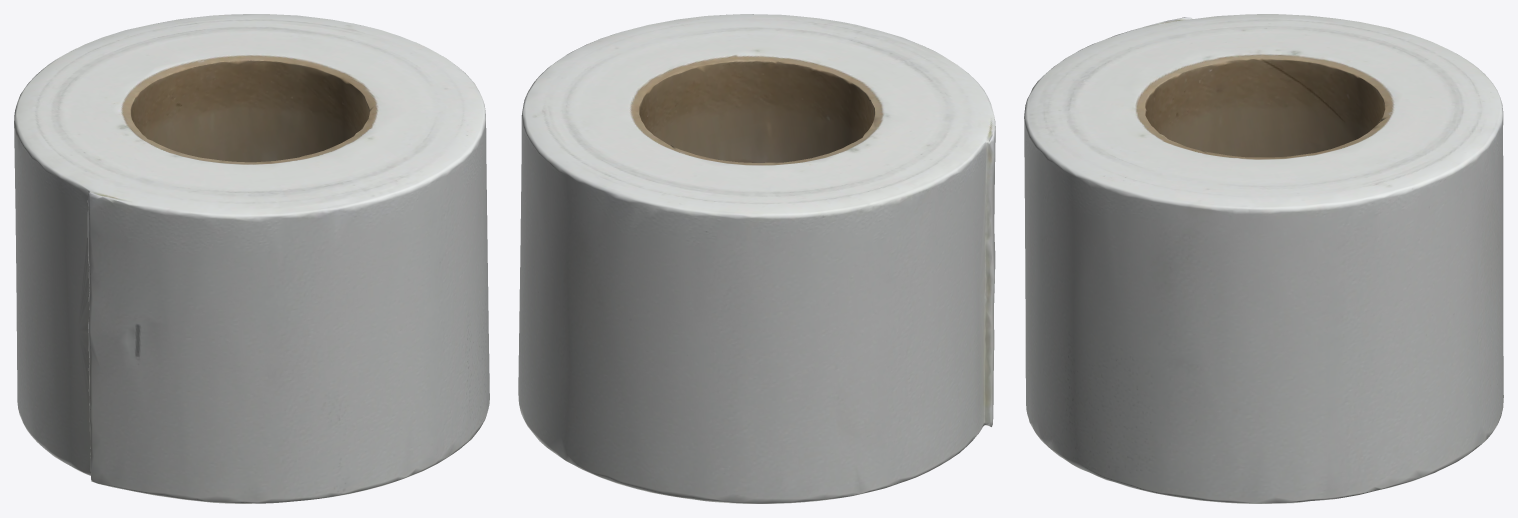
File: Cole_Hardware_Antislip_Surfacing_Material_White.glb
3 views of the same model, side by side, from view 1: azimuth 30°, elevation 25°; view 2: azimuth 150°, elevation 25°; view 3: azimuth 270°, elevation 25° (orthographic).
Visible parts, largest first — view 1: Cole_Hardware_Antislip_Surfacing_Material_White; view 2: Cole_Hardware_Antislip_Surfacing_Material_White; view 3: Cole_Hardware_Antislip_Surfacing_Material_White.
Part boxes in pixels (x1,y1,x2,y2): Cole_Hardware_Antislip_Surfacing_Material_White: [14, 14, 489, 503]; Cole_Hardware_Antislip_Surfacing_Material_White: [518, 14, 995, 503]; Cole_Hardware_Antislip_Surfacing_Material_White: [1024, 14, 1503, 503].
Size of the model in its own units: 0.1549 by 0.1078 by 0.1543.
1 material, 1 textured.
